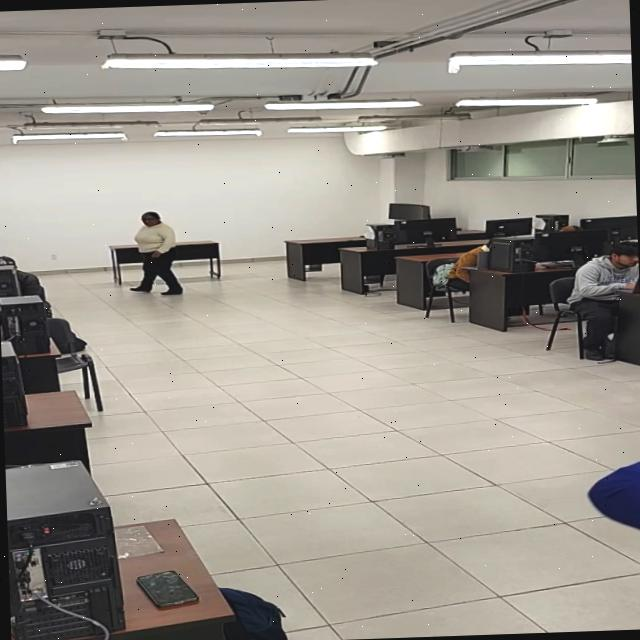Persona: (126, 210, 184, 296)
